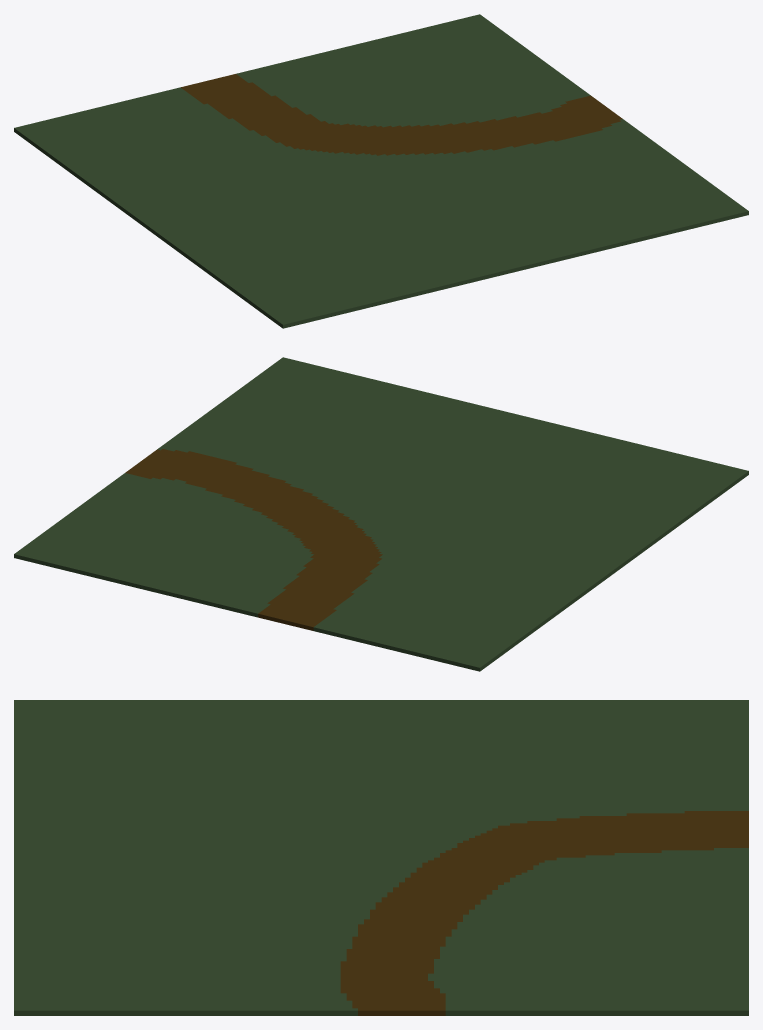
Rendered from grass_tile_dirtpath.obj.
3 views of the same model, one above another, from view 1: azimuth 30°, elevation 25°; view 2: azimuth 150°, elevation 25°; view 3: azimuth 270°, elevation 25° (orthographic). The views are drawn at different scales.
Bounding box in the file's own units: 126 × 1 × 126.
